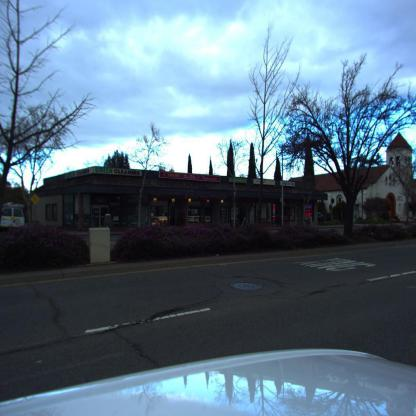car: (1, 206, 27, 228)
